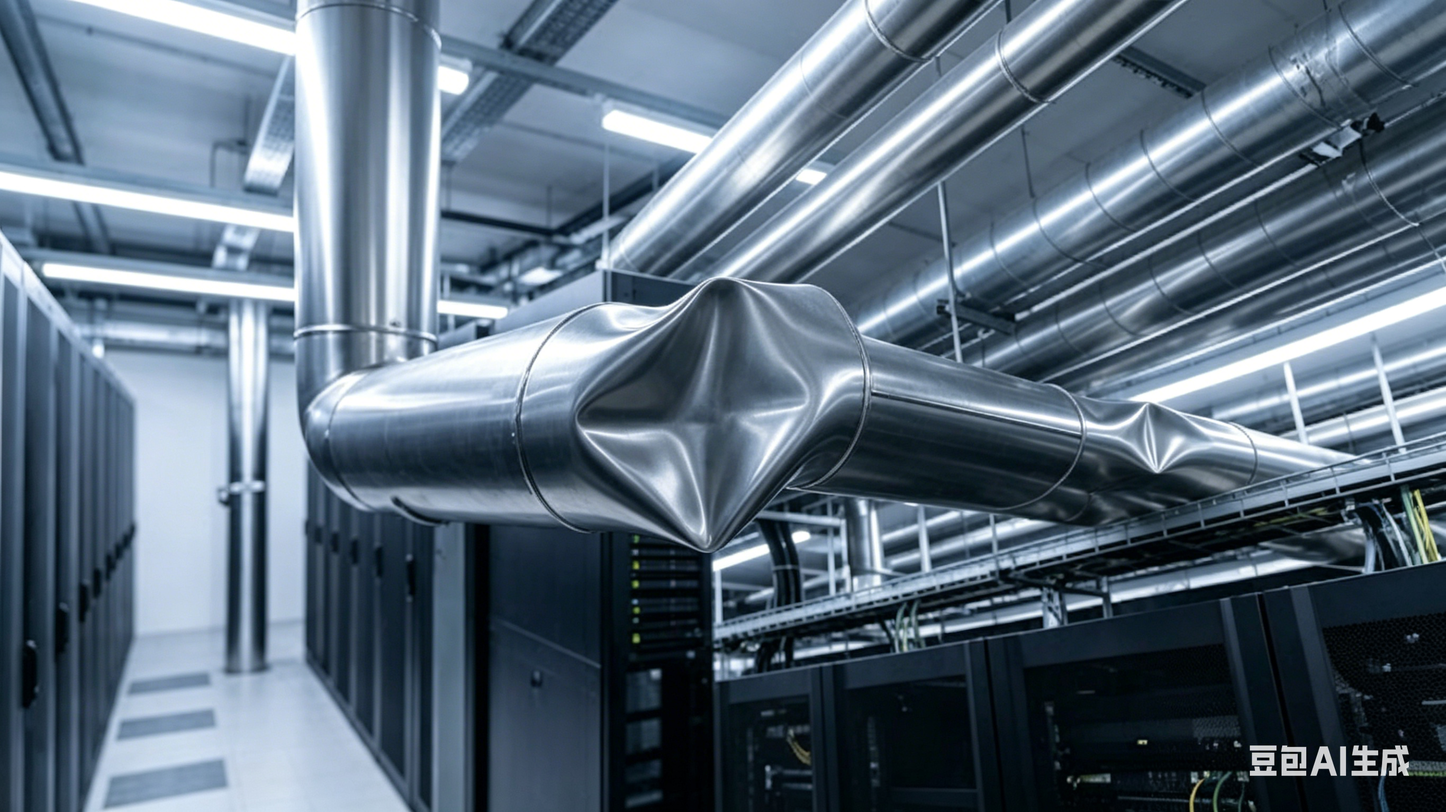Leakage: (558, 266, 848, 560), (1076, 376, 1239, 502)
